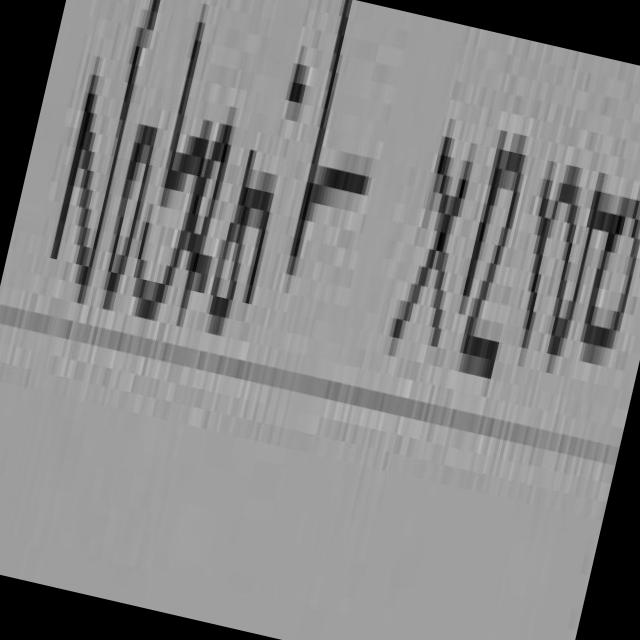0: (585, 198, 640, 362), (546, 200, 595, 354)
1: (526, 179, 552, 348)
N: (51, 28, 142, 303)
R: (463, 131, 526, 372)
X: (394, 137, 471, 346)
b: (135, 22, 206, 316)
e: (185, 124, 230, 293)
i: (244, 173, 272, 312), (282, 59, 302, 114)
o: (104, 125, 156, 309)
s: (206, 131, 258, 340)
t: (290, 0, 369, 274)
